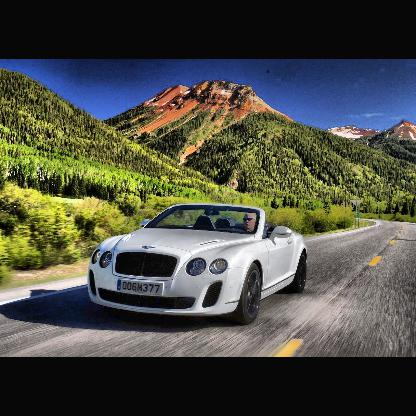Bentley Continental Supersports Conv- Convertible 2012: (88, 202, 310, 325)
